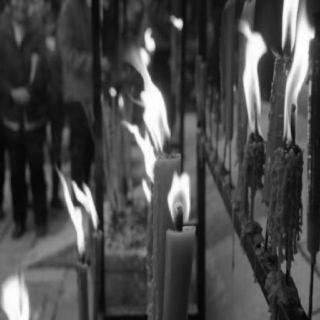Fire: (280, 2, 304, 146)
